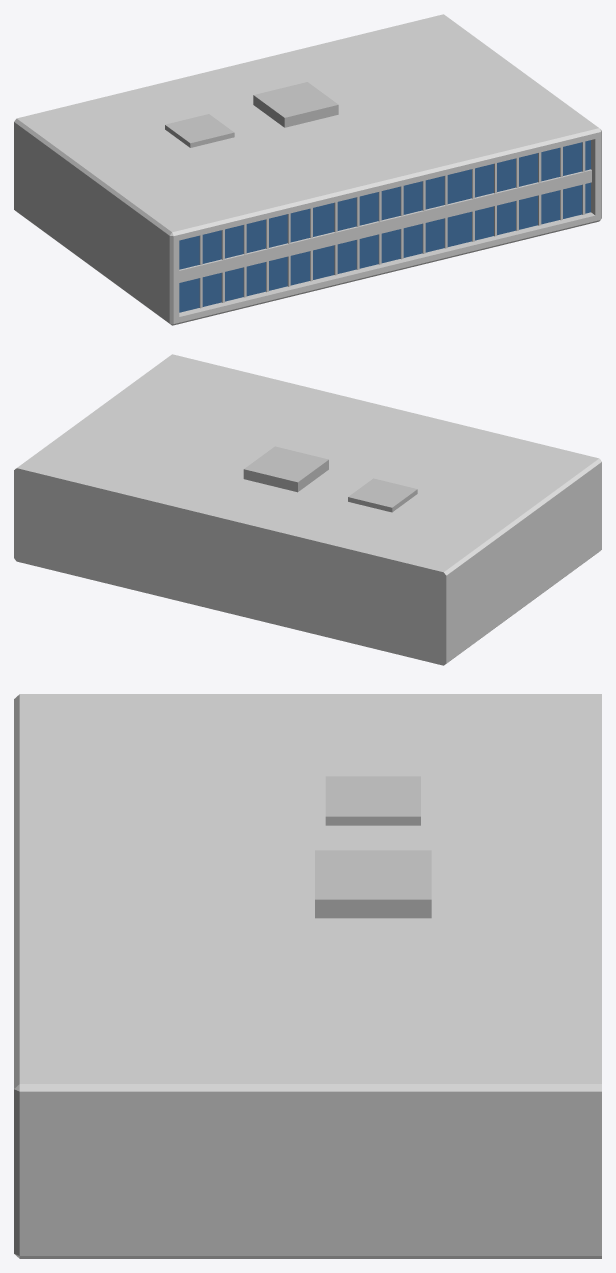
Rendered from Side3.fbx.
The picture shows the model from 3 angles, top to bottom: view 1: azimuth 30°, elevation 25°; view 2: azimuth 150°, elevation 25°; view 3: azimuth 270°, elevation 25°; orthographic projection. The views are drawn at different scales.
Parts seen in each view (by area): view 1: Cube.018; view 2: Cube.018; view 3: Cube.018.
Boxes of the visible parts, x1,y1,x2,y2 form: Cube.018: (14,14,601,325); Cube.018: (14,354,601,665); Cube.018: (14,694,601,1258).
Bounding box in the file's own units: 1026 × 234 × 646.
